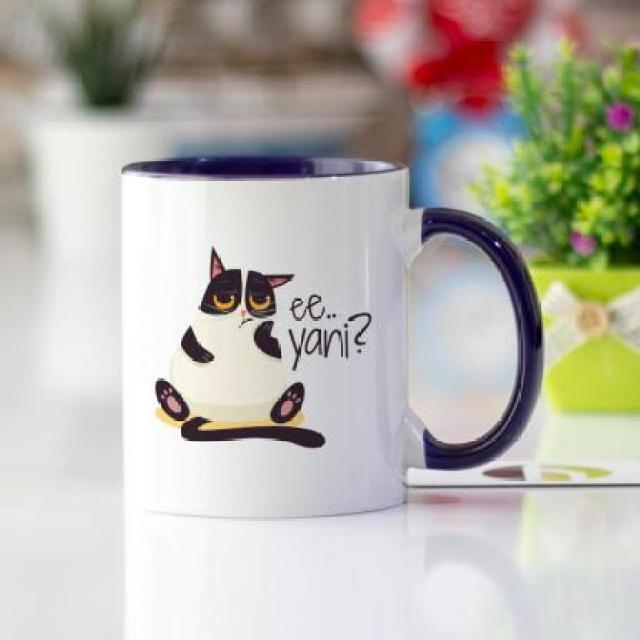taza: (119, 156, 546, 518)
